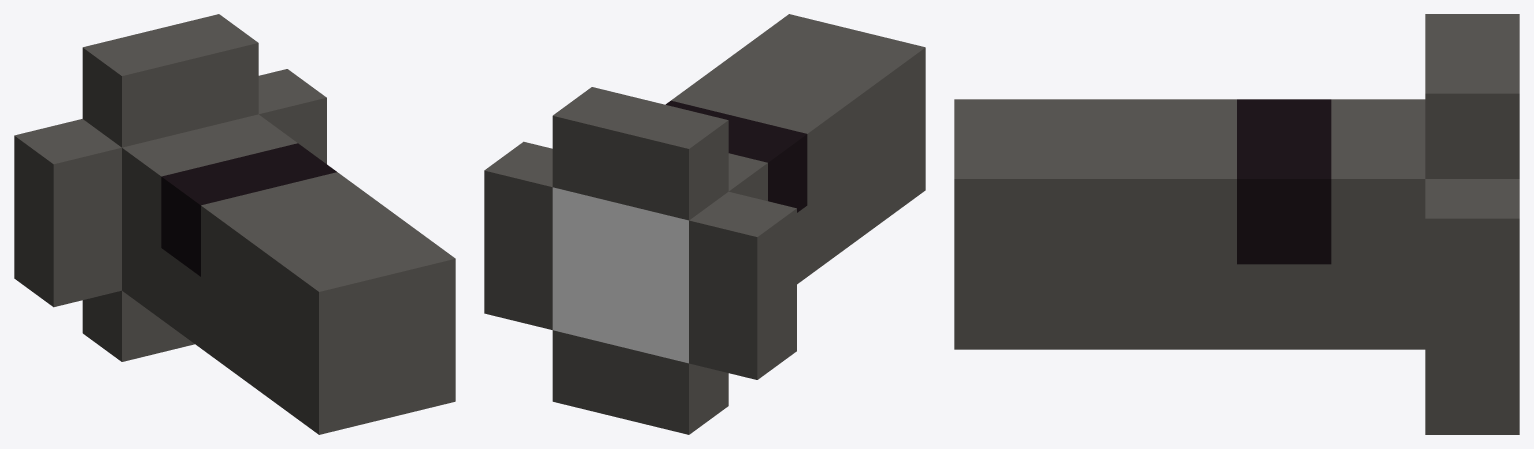
The model's file is Torch.obj.
3 renders of one model, left to right at view 1: azimuth 30°, elevation 25°; view 2: azimuth 150°, elevation 25°; view 3: azimuth 270°, elevation 25°, orthographic. The views are drawn at different scales.
Size of the model in its own units: 4 by 4 by 6.
